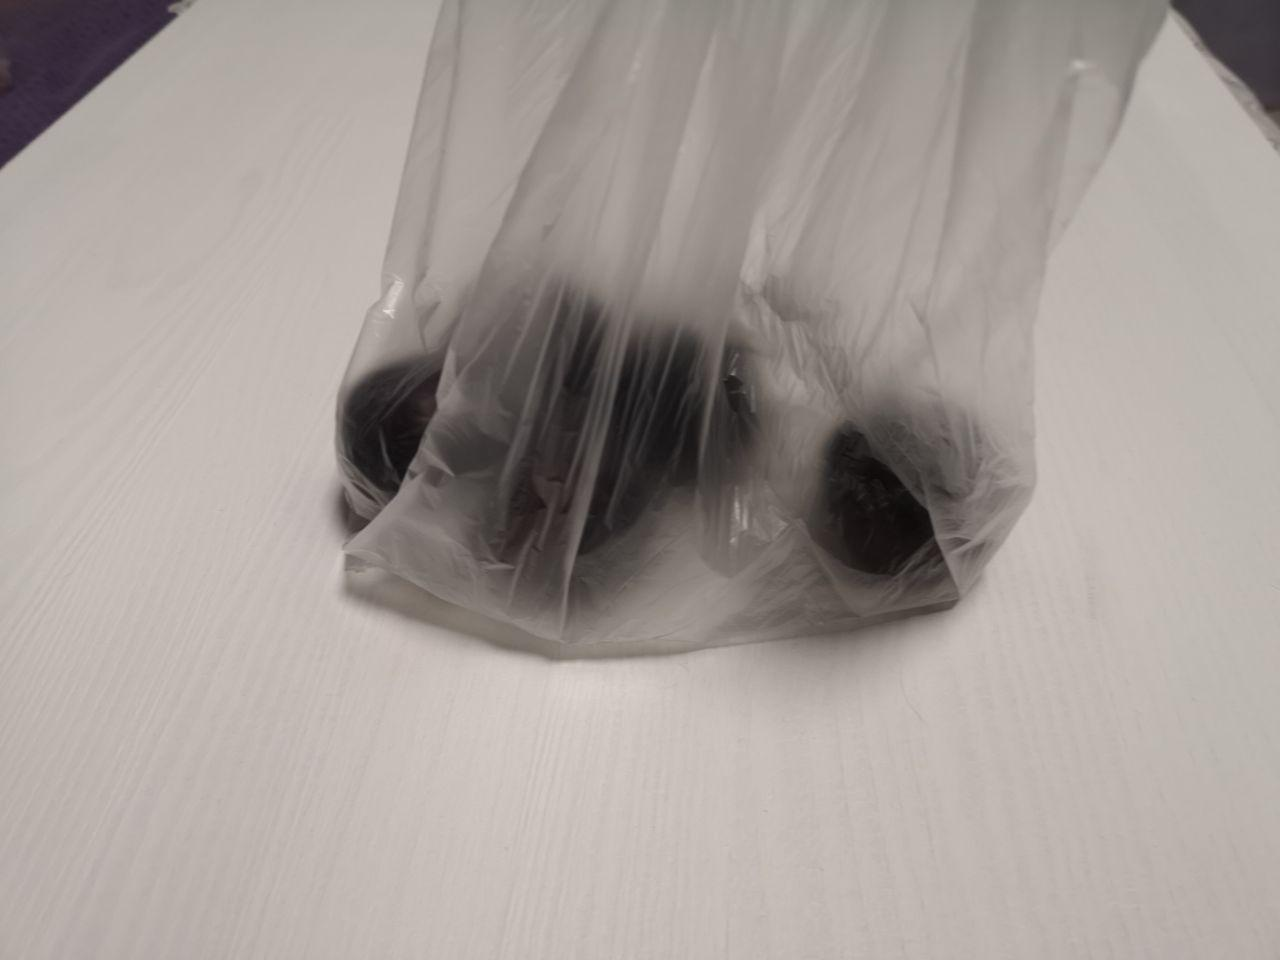plum: (292, 211, 1086, 694)
